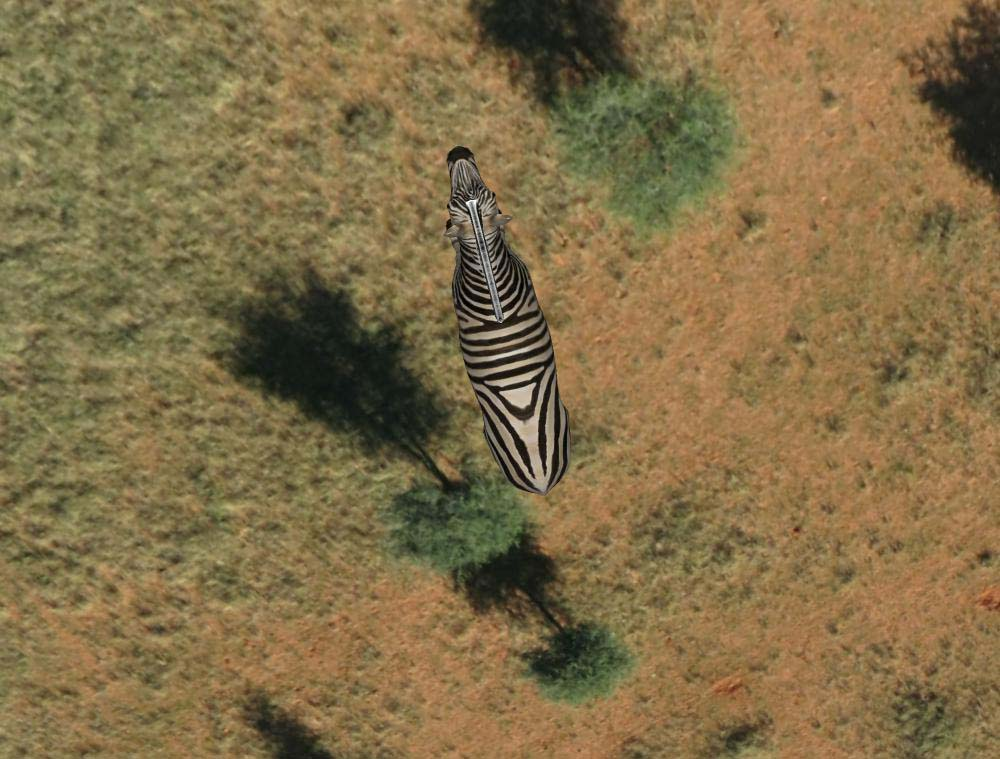zebra: (442, 140, 575, 491)
